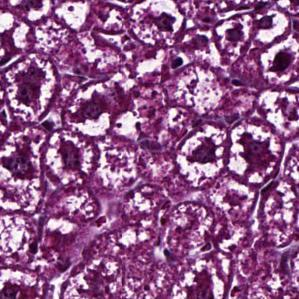inflammation: (173, 125, 228, 187), (45, 129, 94, 188), (214, 13, 255, 62)
